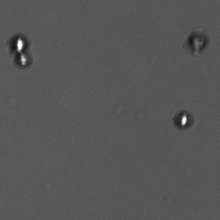Dead Cell: (183, 27, 212, 58)
Living Cell: (173, 108, 196, 130), (8, 33, 32, 52), (13, 49, 34, 68)
